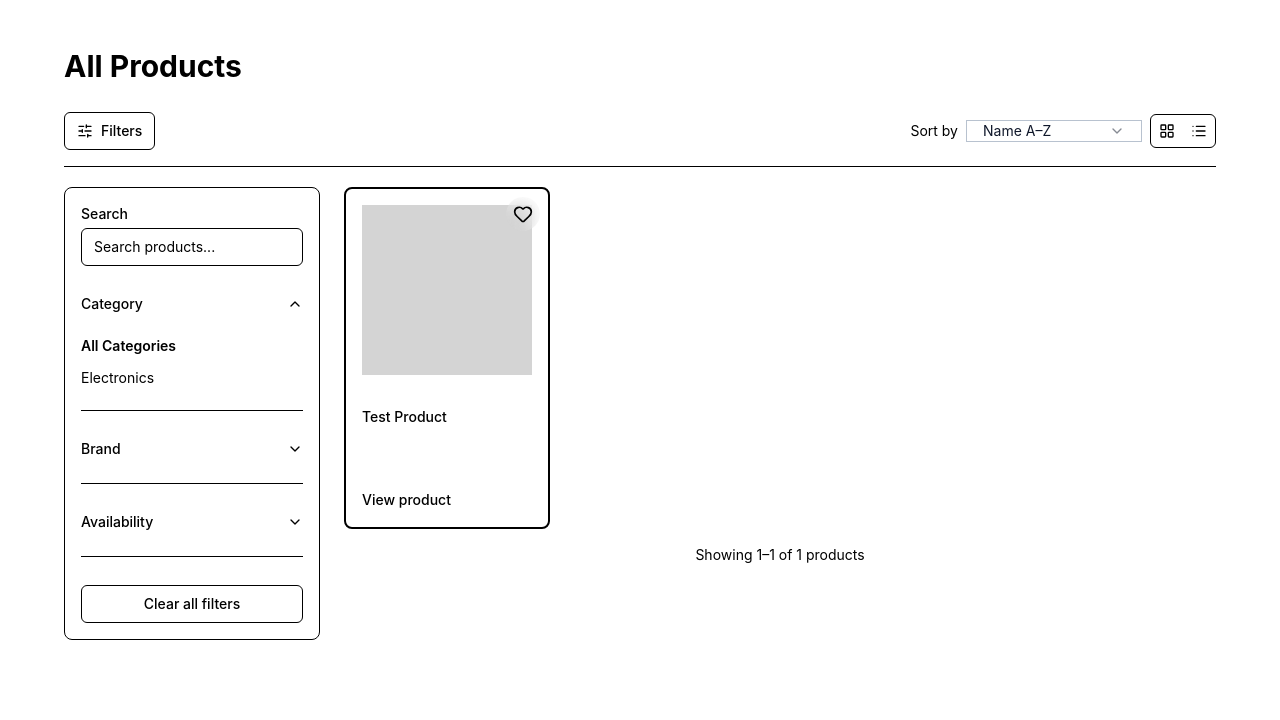
Test case: ProductListPage integration › sidebar visibility toggle › clicking filter button again on desktop shows the sidebar
Click the button labelled "Filters".
click(110, 131)  # box [64,112,155,150]
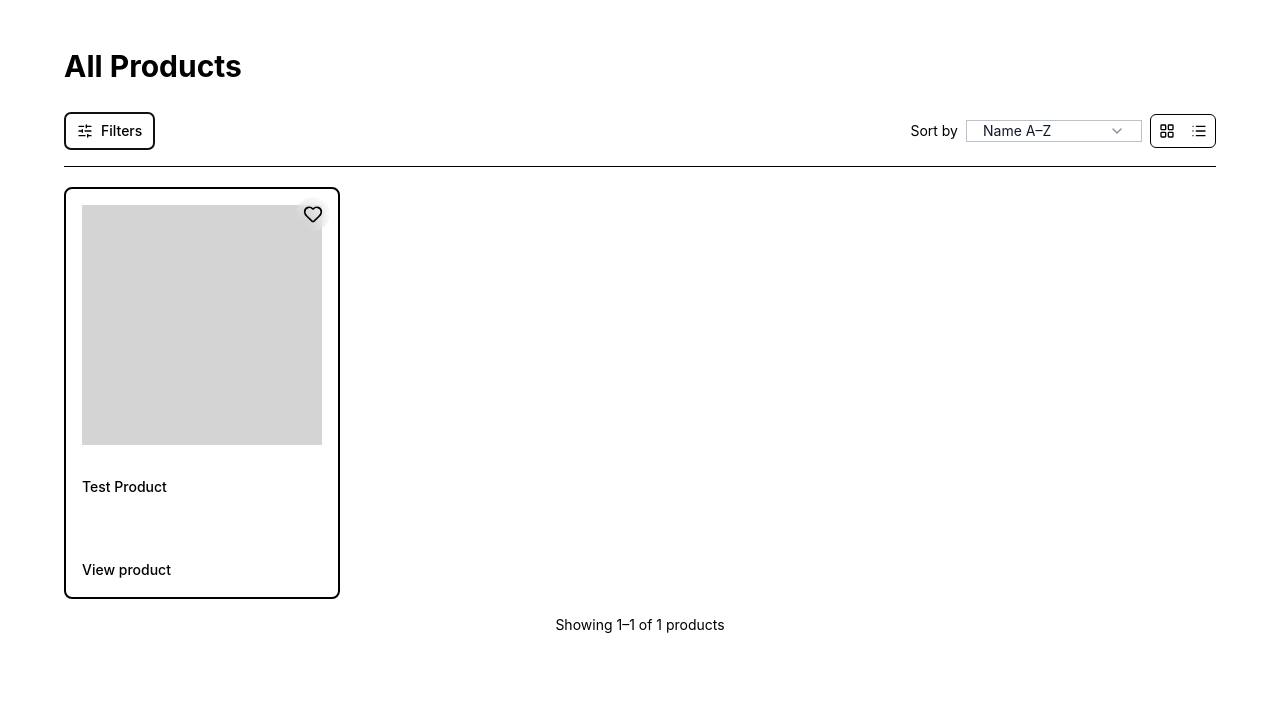
Note: Show again
Click the button labelled "Filters".
click(110, 131)  # box [64,112,155,150]
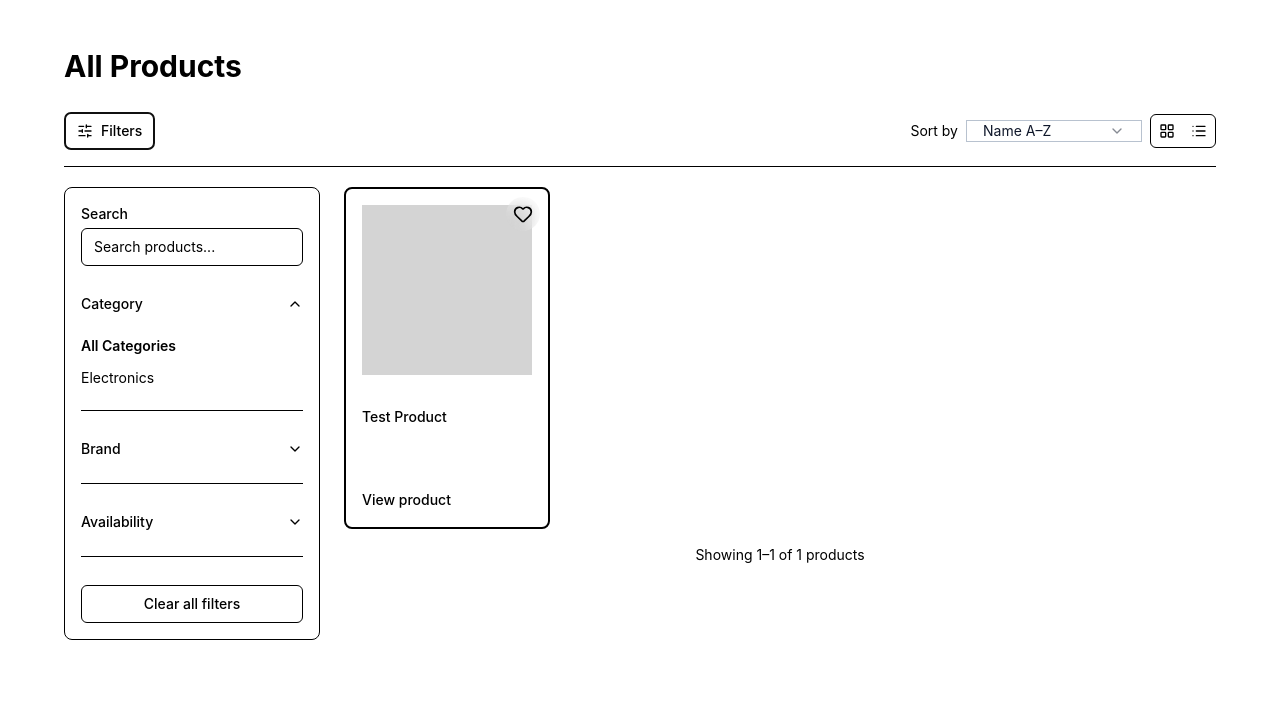
Result: the element that starts with "Search" is shown at [64,187,320,640]
